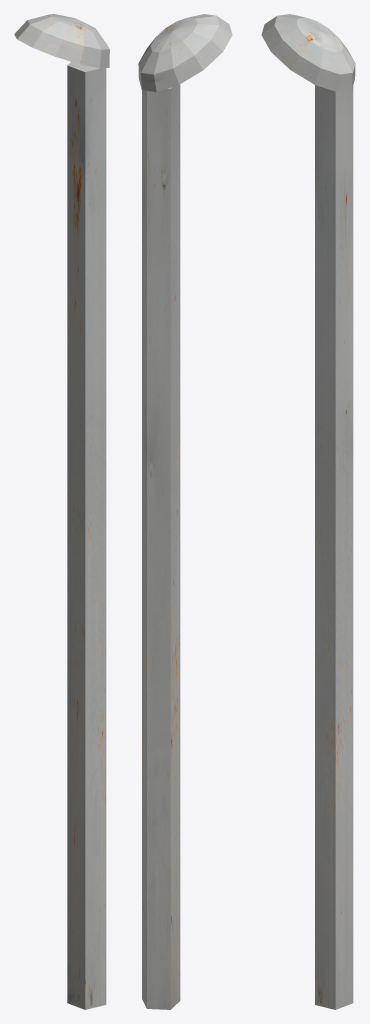
File: streetlight.fbx
3 views of the same model, side by side, from view 1: azimuth 30°, elevation 25°; view 2: azimuth 210°, elevation 25°; view 3: azimuth 330°, elevation 25° (orthographic).
Visible parts, largest first — view 1: Streetlight|Cylinder|Dupli|, Streetlight|Sphere|Dupli|2; view 2: Streetlight|Cylinder|Dupli|, Streetlight|Sphere|Dupli|2; view 3: Streetlight|Cylinder|Dupli|, Streetlight|Sphere|Dupli|2.
Part boxes in pixels (x1,y1,x2,y2): Streetlight|Cylinder|Dupli|: (67,62,106,1009); Streetlight|Sphere|Dupli|2: (14,14,109,68); Streetlight|Cylinder|Dupli|: (142,84,180,1009); Streetlight|Sphere|Dupli|2: (138,14,232,91); Streetlight|Cylinder|Dupli|: (315,85,353,1009); Streetlight|Sphere|Dupli|2: (261,14,355,91).
Bounding box in the file's own units: 101 × 1059 × 70.11.
